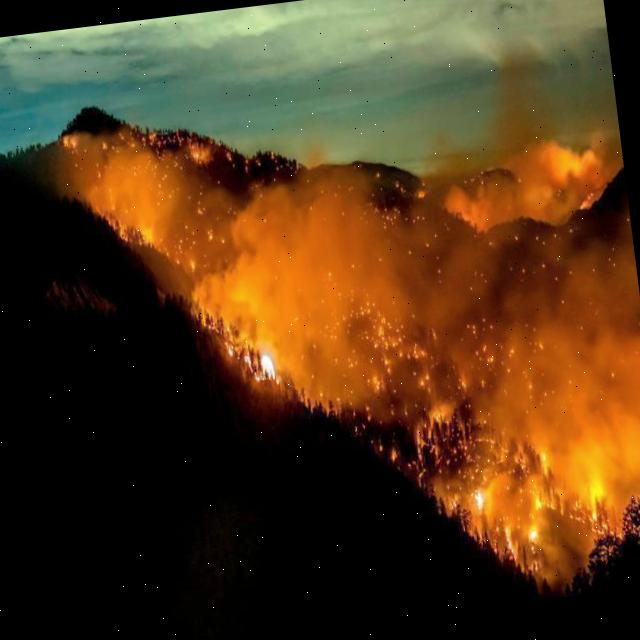fire: (178, 148, 454, 350), (62, 106, 303, 298), (456, 160, 640, 404), (425, 406, 619, 576), (315, 327, 475, 428), (232, 340, 306, 410)
